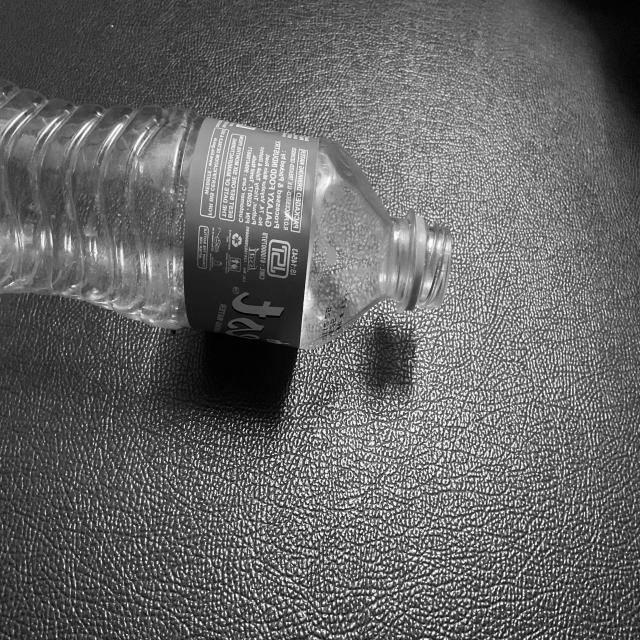open-cap: (407, 212, 458, 313)
